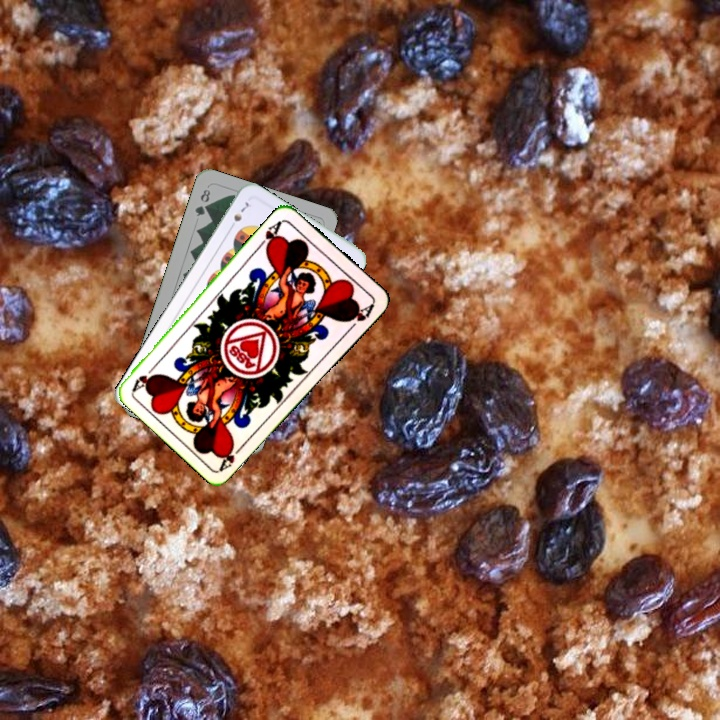G8: (191, 185, 213, 219)
HA: (255, 217, 285, 254), (216, 439, 248, 473)
S7: (225, 197, 251, 232)
